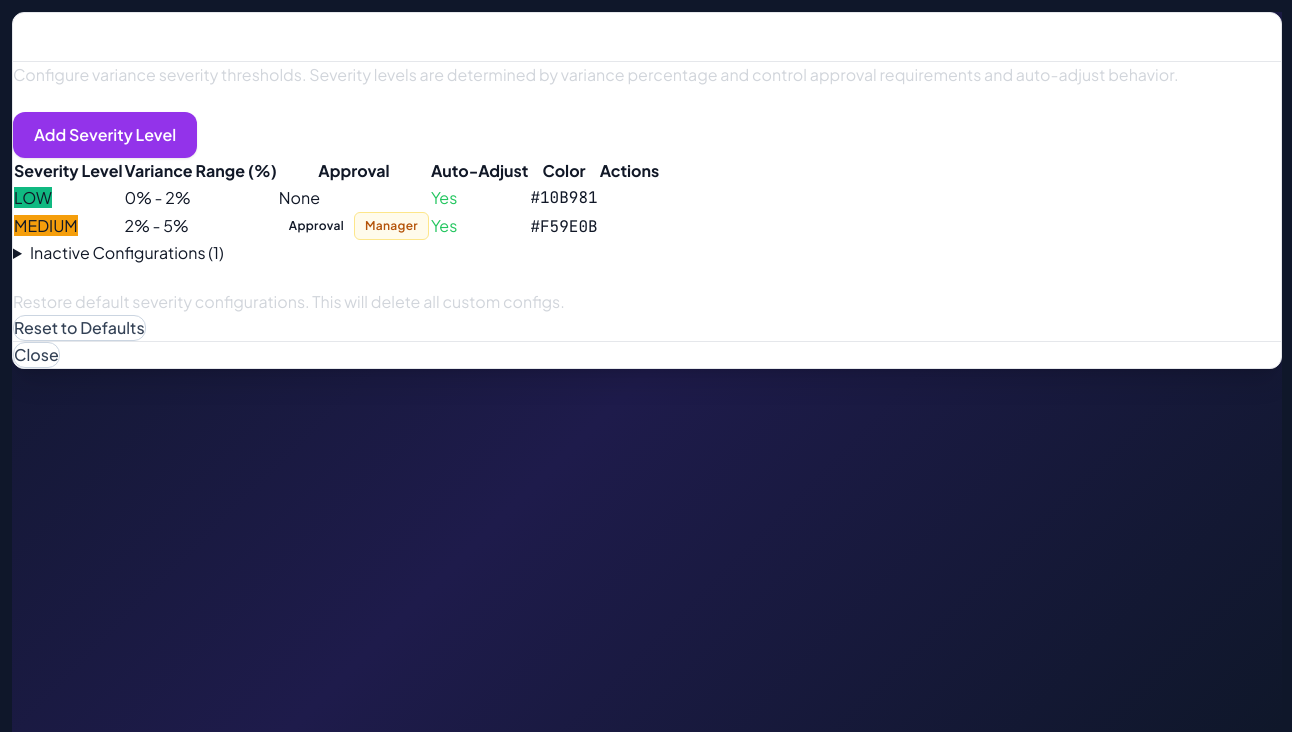
Scenario: SeverityConfigModal Component › Reset to Defaults › shows confirmation when Reset to Defaults button is clicked
Click the button "Reset to Defaults" at (79, 328), box [13, 315, 146, 341]
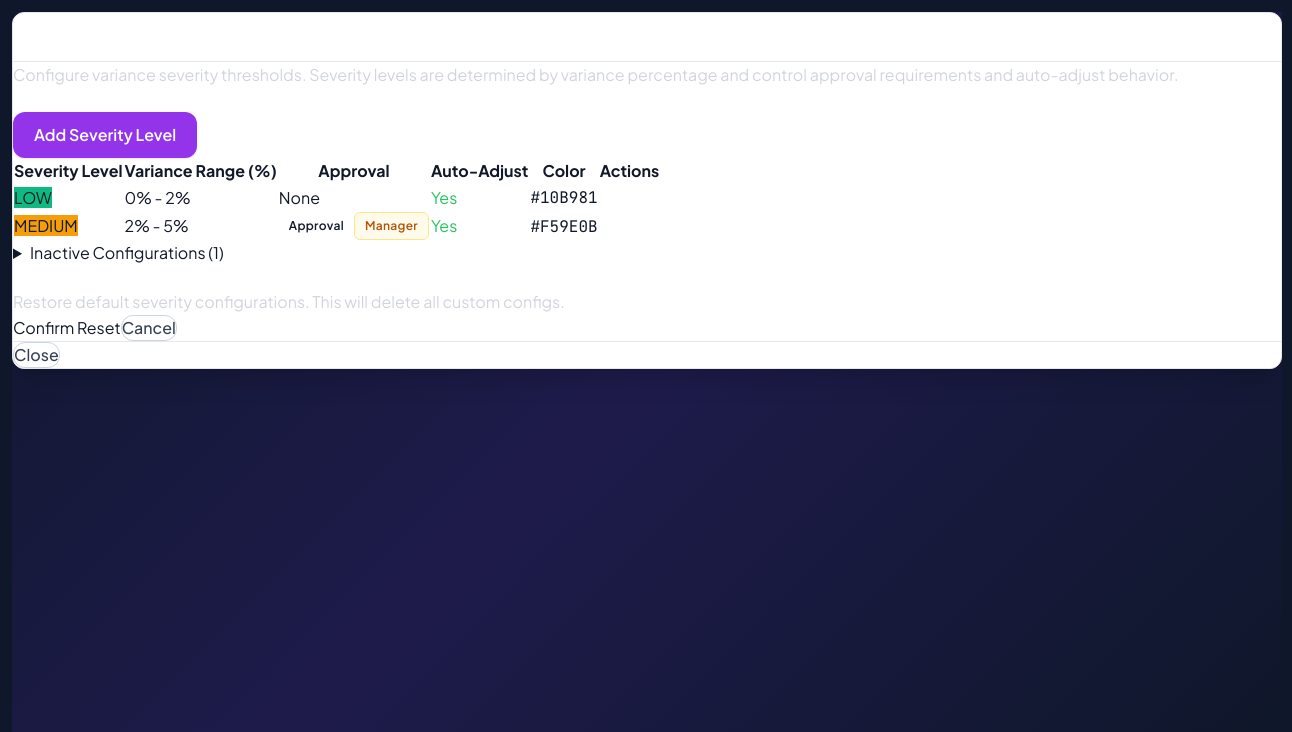
Now the button "Confirm Reset" is shown, box [13, 316, 121, 340]
